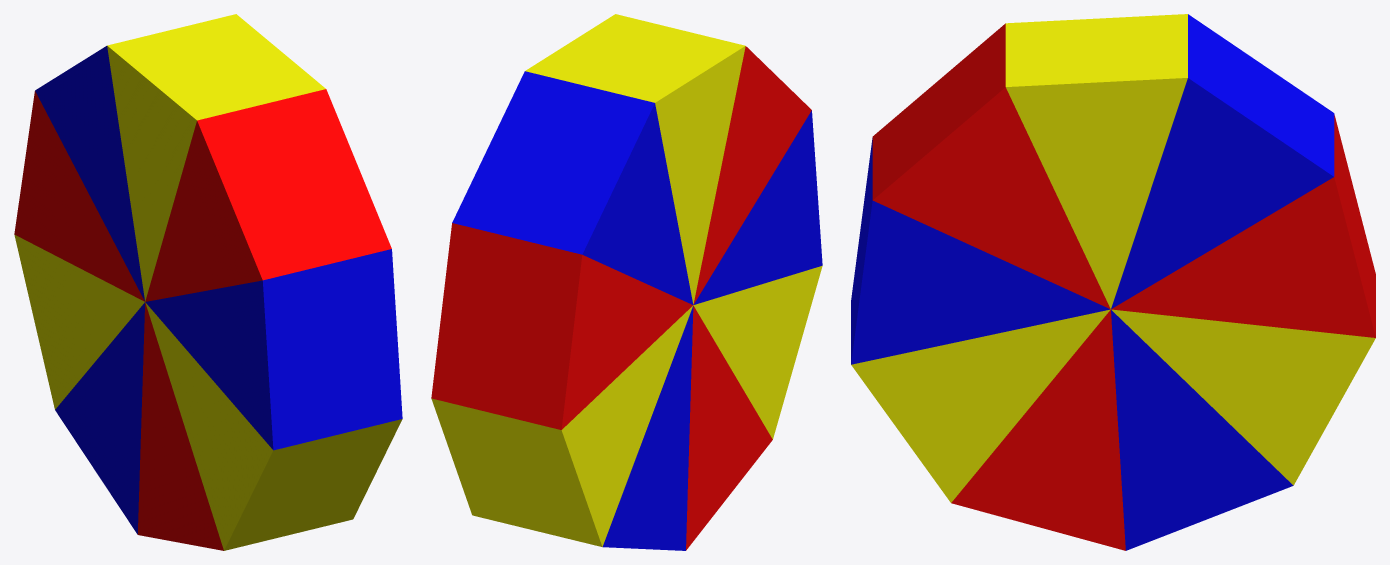
File: model_slot_roll.obj
3 views of the same model, side by side, from view 1: azimuth 30°, elevation 25°; view 2: azimuth 150°, elevation 25°; view 3: azimuth 270°, elevation 25° (orthographic).
Visible parts, largest first — view 1: pCylinder1; view 2: pCylinder1; view 3: pCylinder1.
Boxes of the visible parts, <box> form: pCylinder1: <box>14,14,402,550</box>; pCylinder1: <box>431,14,822,550</box>; pCylinder1: <box>851,14,1375,550</box>.
Size of the model in its own units: 0.3778 by 1.3 by 1.31.
